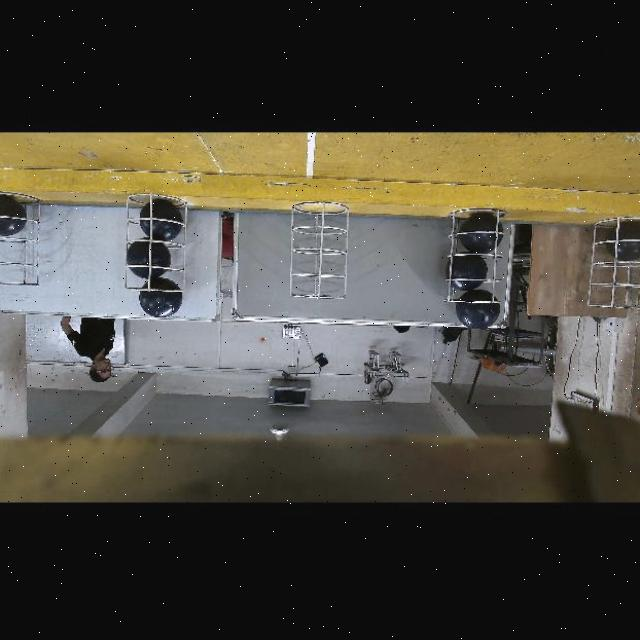P: (455, 290, 501, 331), (140, 200, 183, 242), (459, 214, 504, 254), (126, 238, 170, 278), (445, 252, 488, 292), (139, 279, 182, 318), (607, 222, 640, 260), (0, 196, 28, 237)
S: (285, 200, 349, 306), (126, 193, 188, 295), (446, 212, 508, 306), (586, 212, 640, 312), (0, 194, 38, 294)
